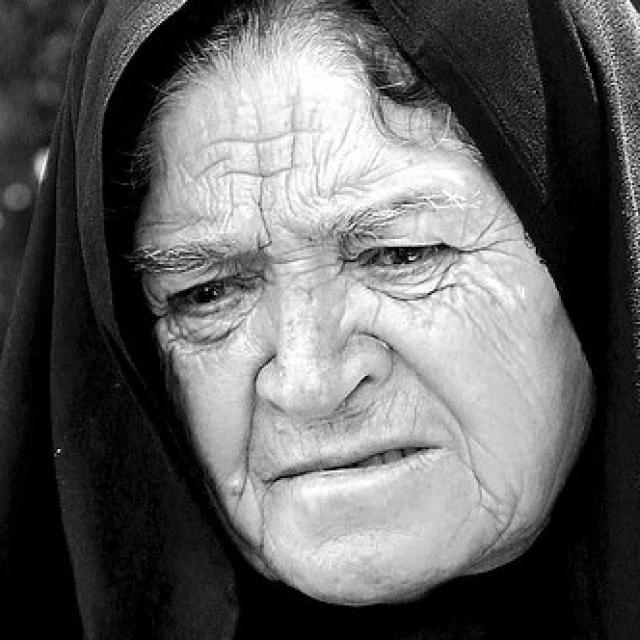Depress: (143, 3, 588, 609)
